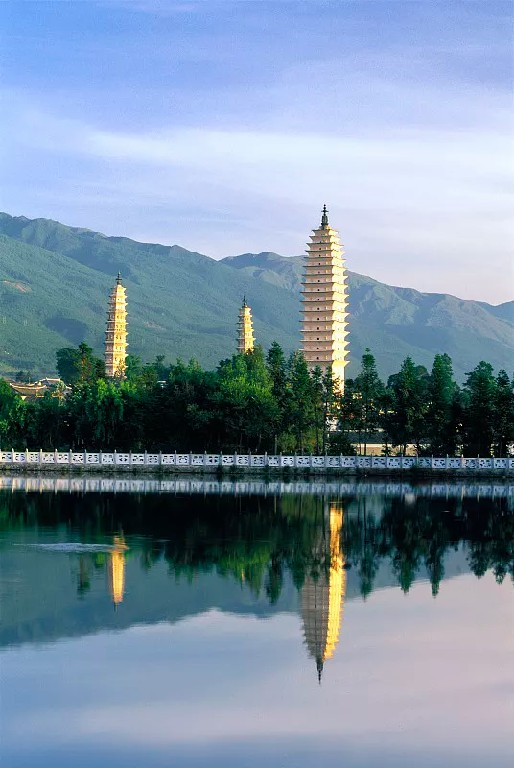ThreePagoda: (297, 204, 351, 395)
